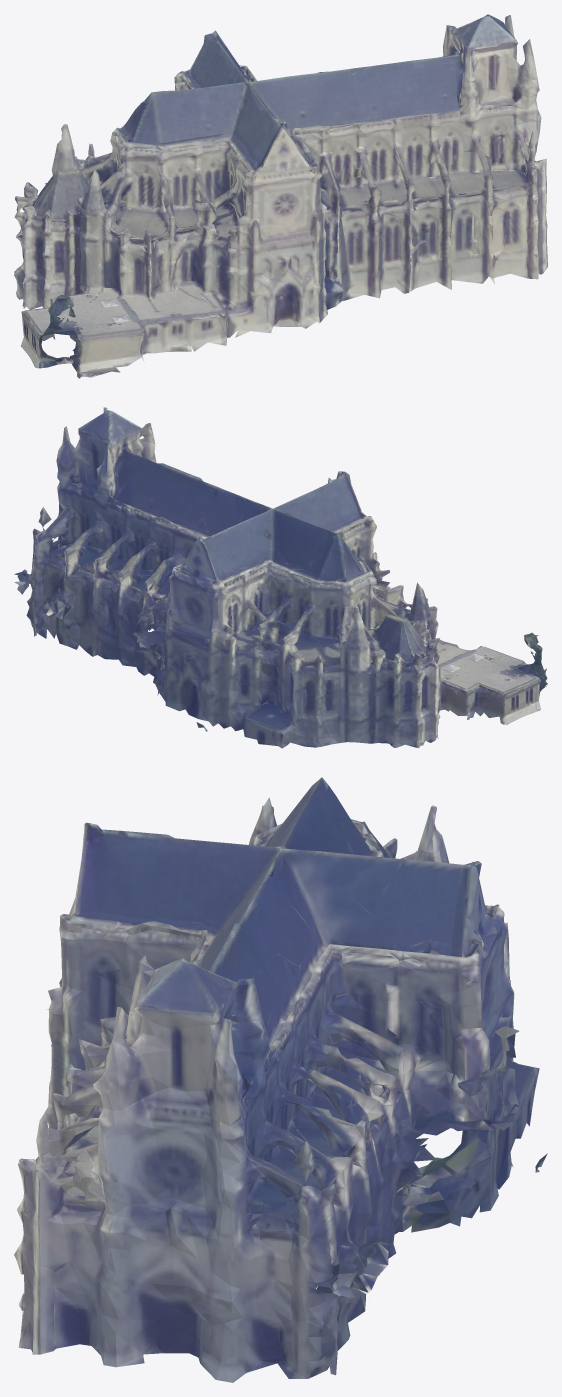
The model's file is basilique-notre-dame.glb.
The picture shows the model from 3 angles, top to bottom: view 1: azimuth 30°, elevation 25°; view 2: azimuth 150°, elevation 25°; view 3: azimuth 270°, elevation 25°; orthographic projection. The views are drawn at different scales.
Size of the model in its own units: 67.51 by 28.37 by 35.27.
3 materials, 3 textured.
